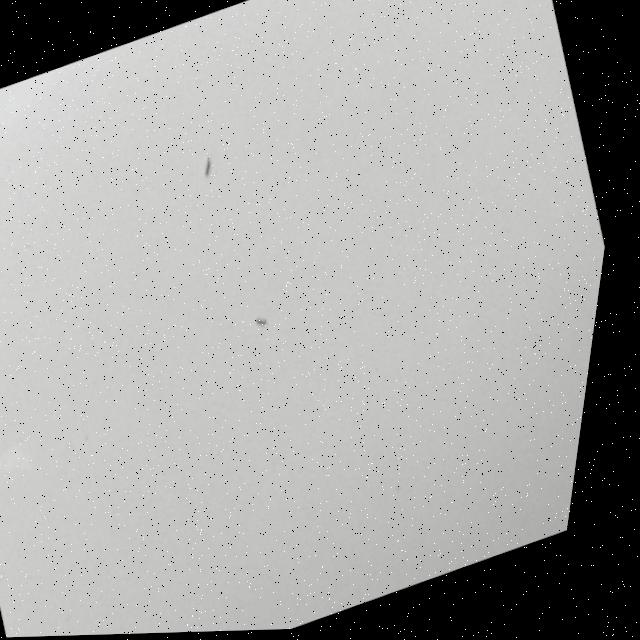Wereng: (190, 146, 226, 183), (245, 304, 279, 339)
